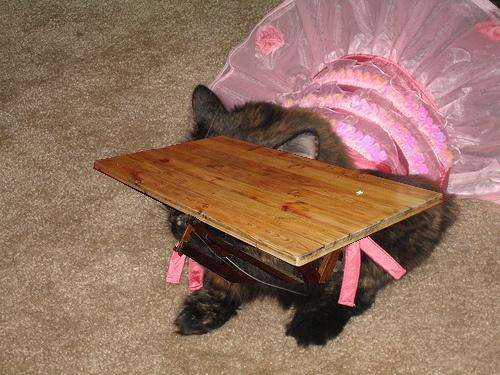tampered: (94, 136, 446, 283)
